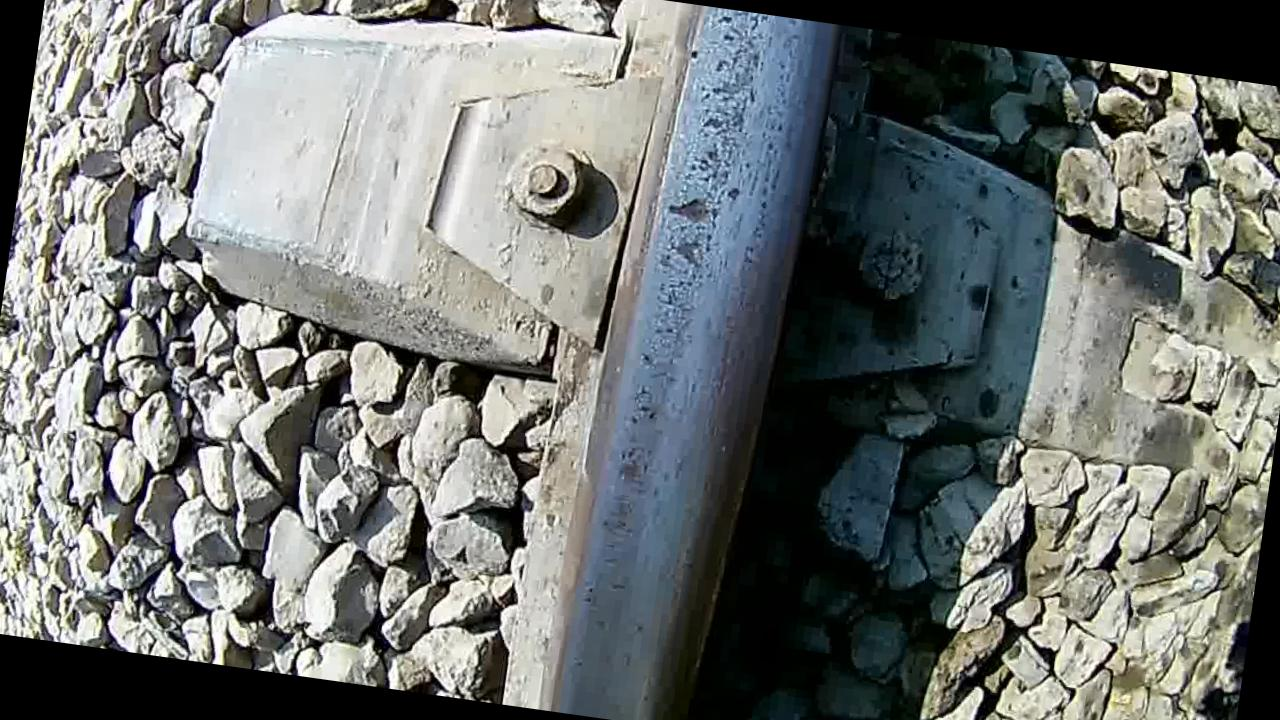crack: (557, 0, 829, 720)
